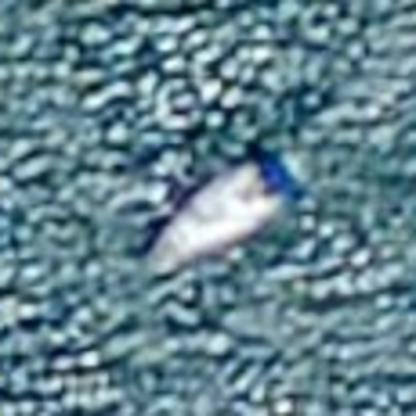ship: (132, 143, 322, 285)
